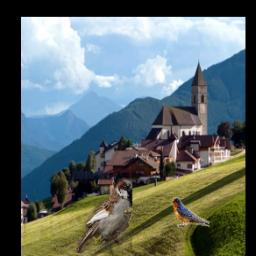Sparrow: (76, 178, 132, 253)
Swallow: (171, 196, 210, 228)
